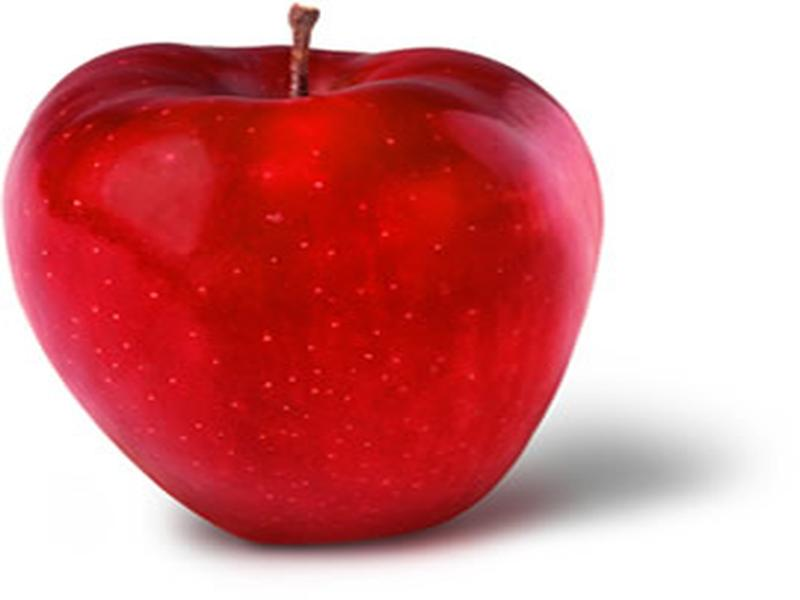apple: (2, 21, 652, 554)
